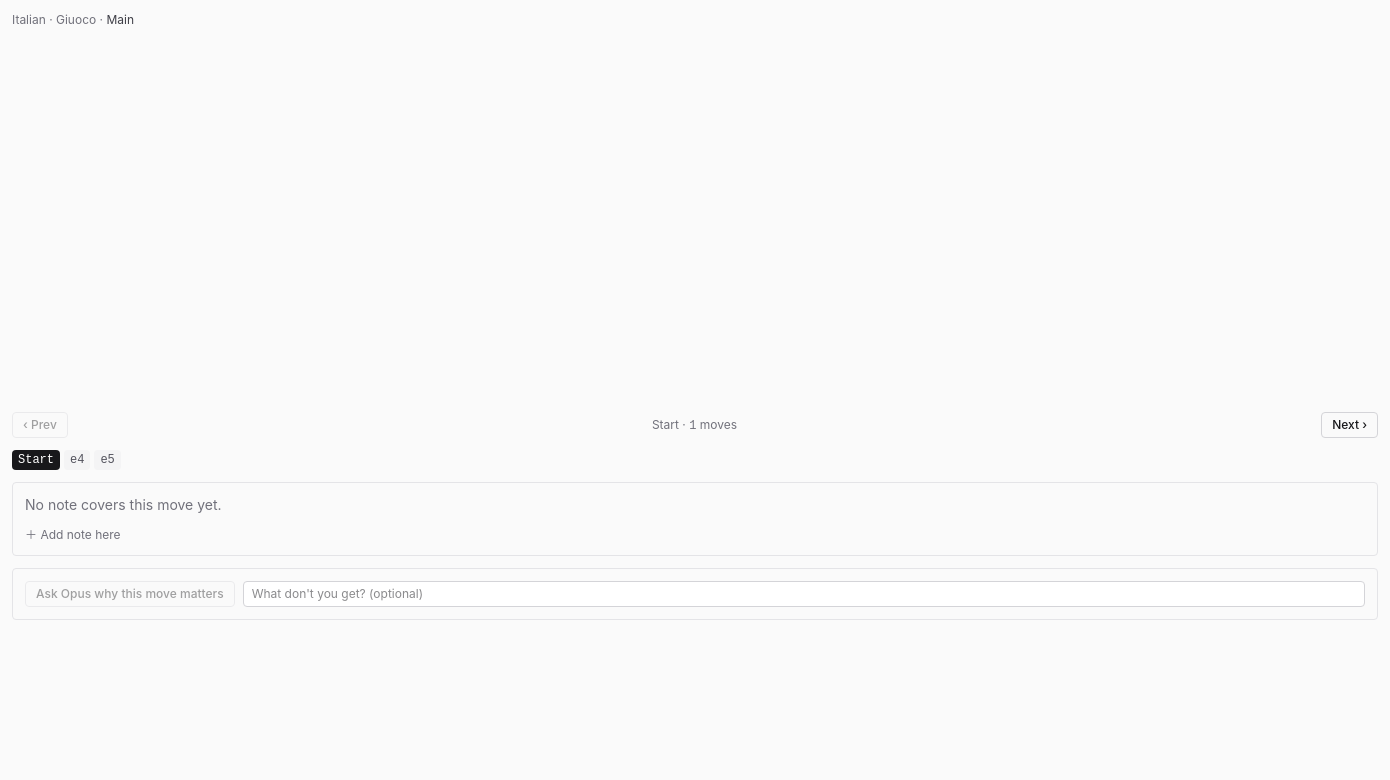
Test case: LineAskPanel in the walk-through › cannot ask at the start, where no move has arrived
Expected: the text "Start · 1 moves" is shown, [652, 416, 737, 434]
Expected: the button "Ask Opus why this move matters" is disabled, [25, 581, 235, 607]
Click the button "Next ›" at point(1350, 425), box [1321, 412, 1378, 438]
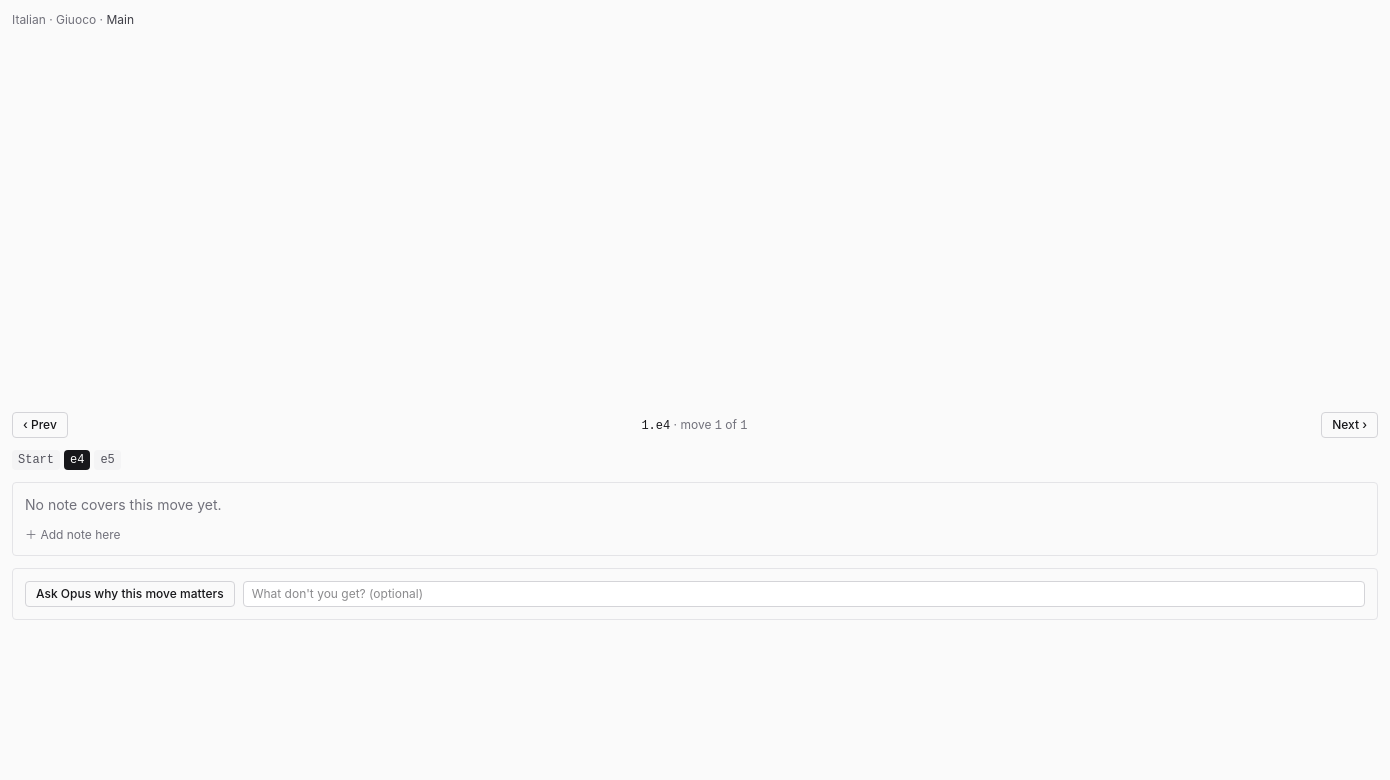
Now the button "Ask Opus why this move matters" is enabled, box [25, 581, 235, 607]
